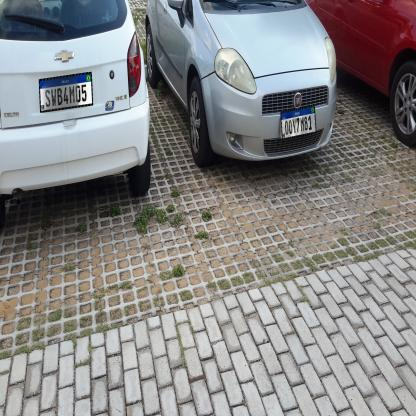PlacaM: (39, 72, 93, 113), (280, 105, 316, 140)
